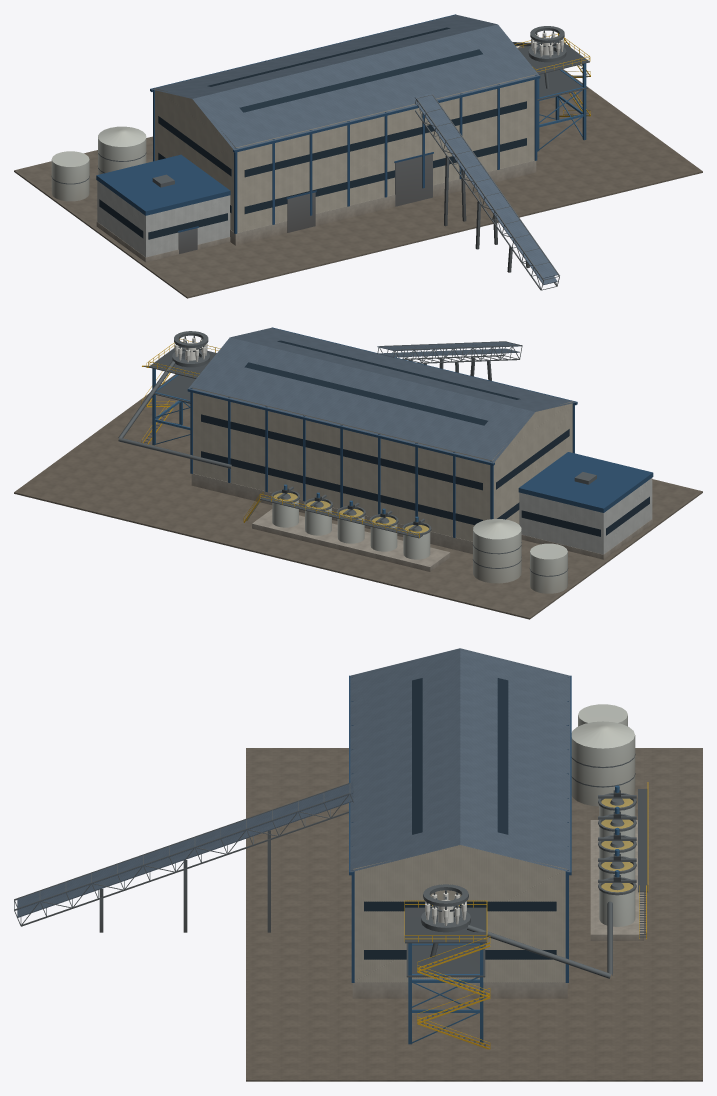
File: clay_plant_lod0.glb
The picture shows the model from 3 angles, top to bottom: view 1: azimuth 30°, elevation 25°; view 2: azimuth 150°, elevation 25°; view 3: azimuth 270°, elevation 25°; orthographic projection. The views are drawn at different scales.
Parts seen in each view (by area): view 1: clay_plant; view 2: clay_plant; view 3: clay_plant.
Boxes of the visible parts, bbox=[...] form: clay_plant: bbox=[14, 14, 702, 298]; clay_plant: bbox=[14, 327, 702, 619]; clay_plant: bbox=[14, 648, 702, 1081].
Bounding box in the file's own units: 110 × 24.3 × 96.51.
Materials: 16 (5 with a texture image).
